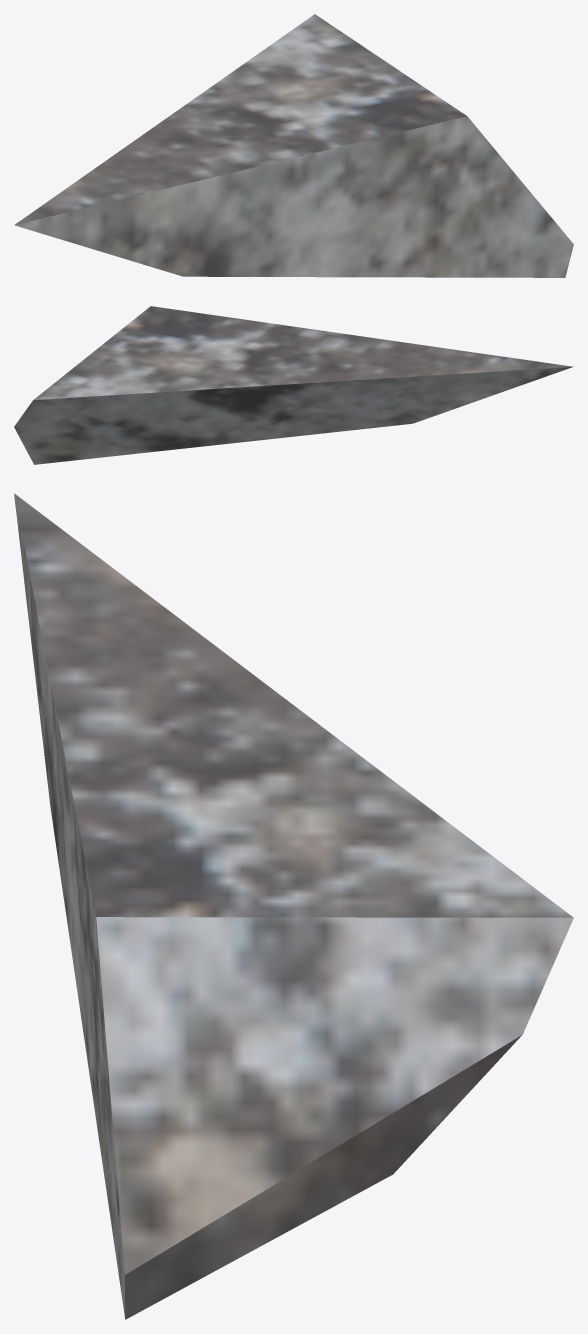
The model's file is Asteroid_Large_001_02_009_03_013.fbx.
The picture shows the model from 3 angles, top to bottom: view 1: azimuth 30°, elevation 25°; view 2: azimuth 150°, elevation 25°; view 3: azimuth 270°, elevation 25°; orthographic projection. The views are drawn at different scales.
Parts seen in each view (by area): view 1: Asteroid_Large_001_02_009_03_013; view 2: Asteroid_Large_001_02_009_03_013; view 3: Asteroid_Large_001_02_009_03_013.
Boxes of the visible parts, bbox=[...] form: Asteroid_Large_001_02_009_03_013: bbox=[14, 14, 573, 277]; Asteroid_Large_001_02_009_03_013: bbox=[14, 306, 573, 464]; Asteroid_Large_001_02_009_03_013: bbox=[14, 493, 573, 1319].
Size of the model in its own units: 3.95 by 1.4 by 1.98.
